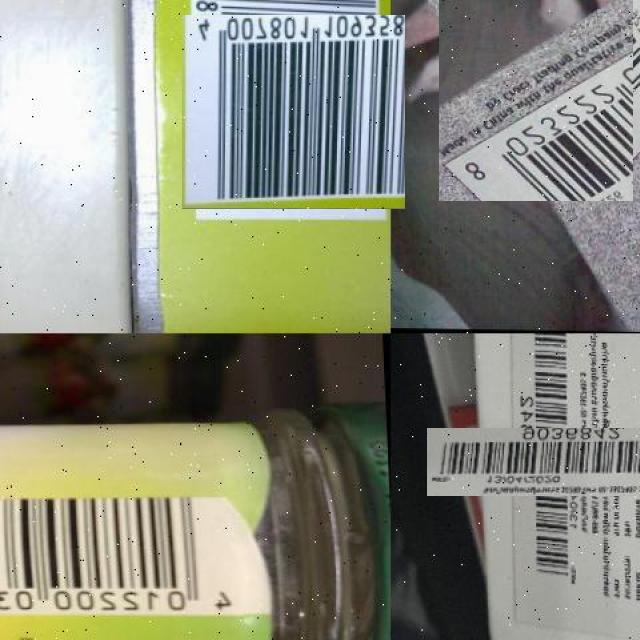Barcode: (190, 8, 398, 216), (437, 0, 637, 198), (0, 487, 244, 622), (474, 381, 637, 543)
